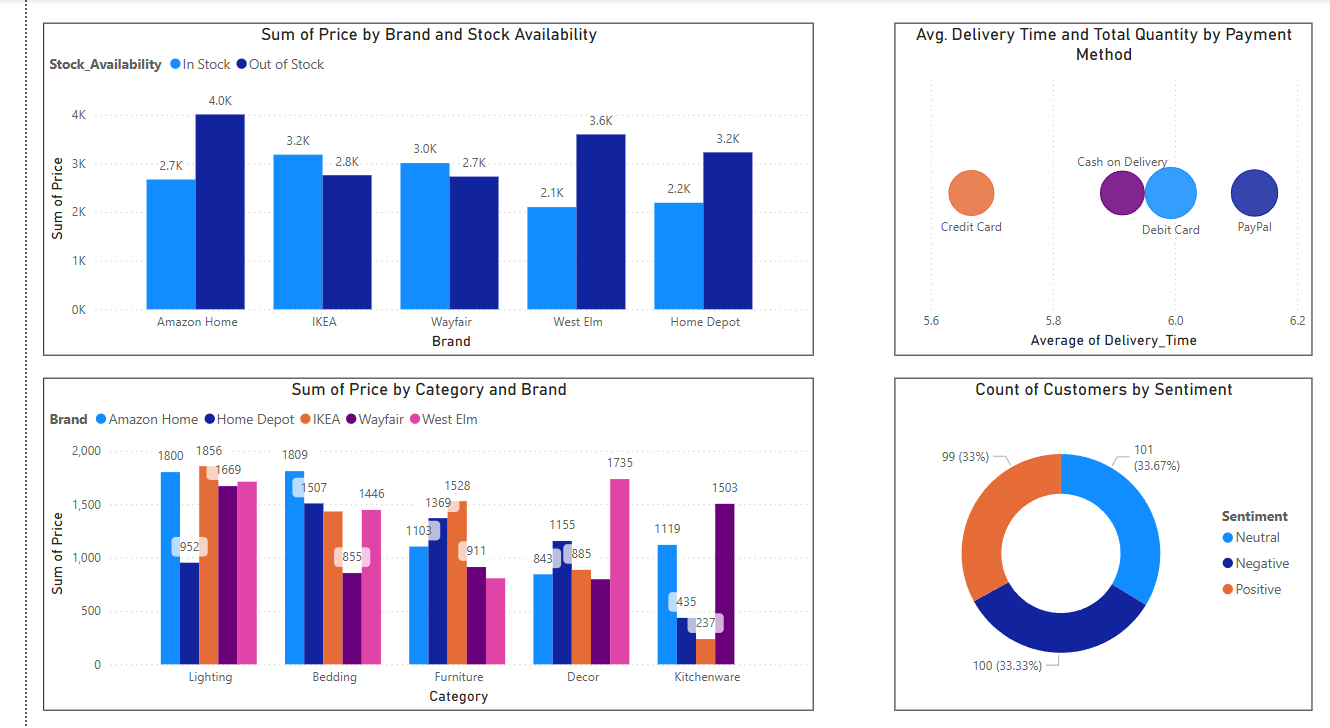

What the dashboard file says about the page in this screenshot:
{"tool":"powerbi","page":{"name":"Page 3","canvas":[1280,720],"ordinal":2},"visuals":[{"type":"clusteredColumnChart","title":"Sum of Price by Brand and Stock Availability","fields":{"Series":["Competitor_Pricing.Stock_Availability"],"Category":["Competitor_Pricing.Brand"],"Y":["Sum(Competitor_Pricing.Price)"]},"box":[15.9,23.2,753.3,325.3],"z":0},{"type":"lineClusteredColumnComboChart","fields":{"Category":["Competitor_Pricing.Category"],"Series":["Competitor_Pricing.Brand"],"Y":["Sum(Competitor_Pricing.Price)"]},"box":[15.9,370.5,753.3,325.3],"z":1000},{"type":"scatterChart","title":"Avg. Delivery Time and Total Quantity by Payment Method","fields":{"X":["Avg(Sales_Data.Delivery_Time)"],"Series":["Sales_Data.Payment_Method"],"Size":["Sum(Sales_Data.Quantity)"]},"box":[848.6,23.2,408.4,325.3],"z":2000},{"type":"donutChart","title":"Count of Customers by Sentiment","fields":{"Category":["Customer_Reviews.Sentiment"],"Y":["CountNonNull(Customer_Reviews.Customer_ID)"]},"box":[848.6,370.5,408.4,325.3],"z":3000}]}

Visuals, with their boxes in screenshot pixels (x1, y1, x2, y2), scaled from the page's 1280x720 canvas onto the 1330x728 screenshot:
"Sum of Price by Brand and Stock Availability" clusteredColumnChart: [left=17, top=23, right=799, bottom=352]
lineClusteredColumnComboChart - Competitor_Pricing.Category x Competitor_Pricing.Brand: [left=17, top=375, right=799, bottom=704]
"Avg. Delivery Time and Total Quantity by Payment Method" scatterChart: [left=882, top=23, right=1306, bottom=352]
"Count of Customers by Sentiment" donutChart: [left=882, top=375, right=1306, bottom=704]
